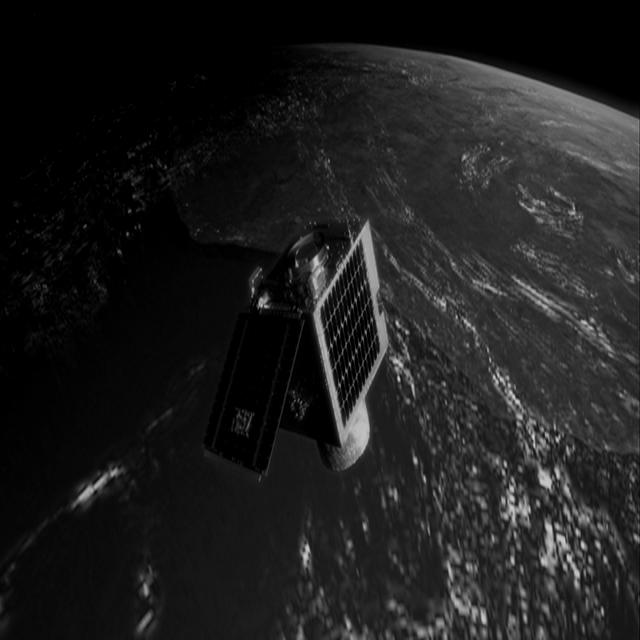satellite: (193, 157, 397, 528)
